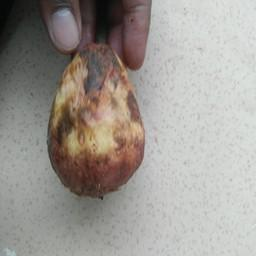Bad_guava: (46, 31, 145, 205)
